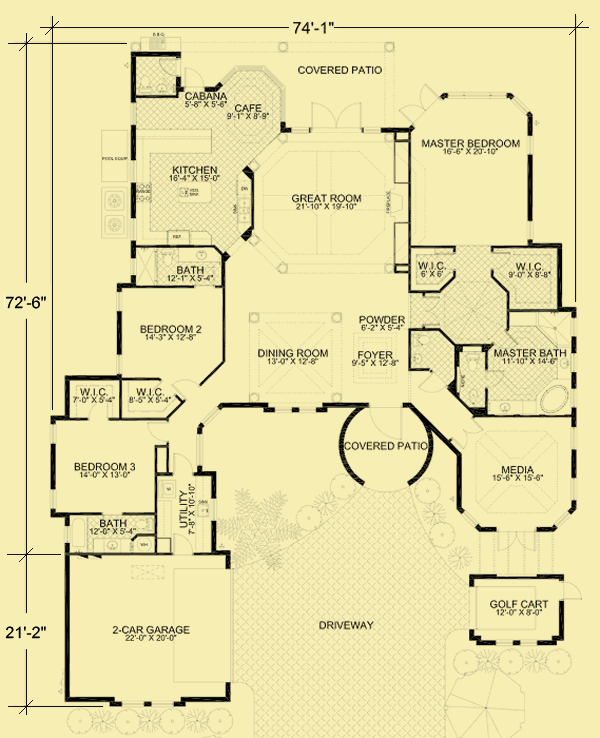door: (307, 102, 364, 132), (396, 84, 439, 120), (491, 529, 541, 553), (370, 407, 407, 439), (179, 67, 210, 92), (417, 368, 446, 394), (171, 376, 200, 395), (171, 450, 192, 475)
large_sink: (137, 72, 154, 96), (410, 332, 430, 352), (160, 243, 174, 265), (465, 349, 479, 369)
small_sink: (86, 538, 134, 551), (181, 246, 221, 261), (489, 398, 522, 416)
tub: (537, 383, 567, 414)
windows: (446, 90, 508, 100), (202, 403, 224, 429), (271, 404, 320, 414)
